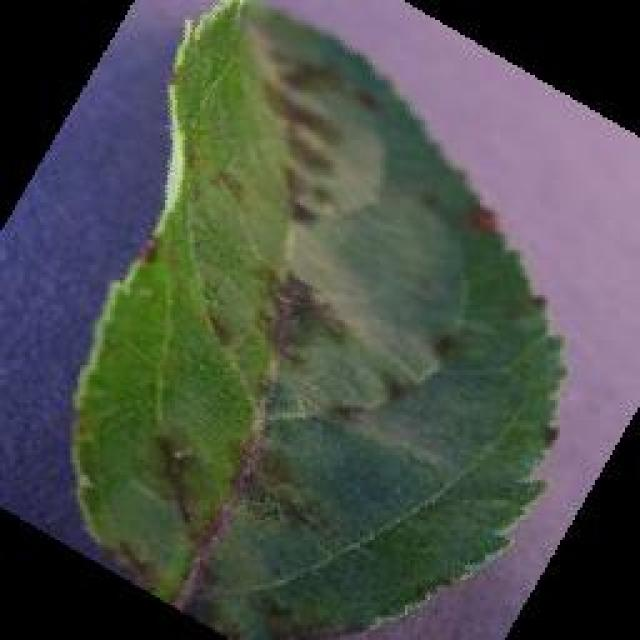apple scab disease: (65, 0, 570, 638)
